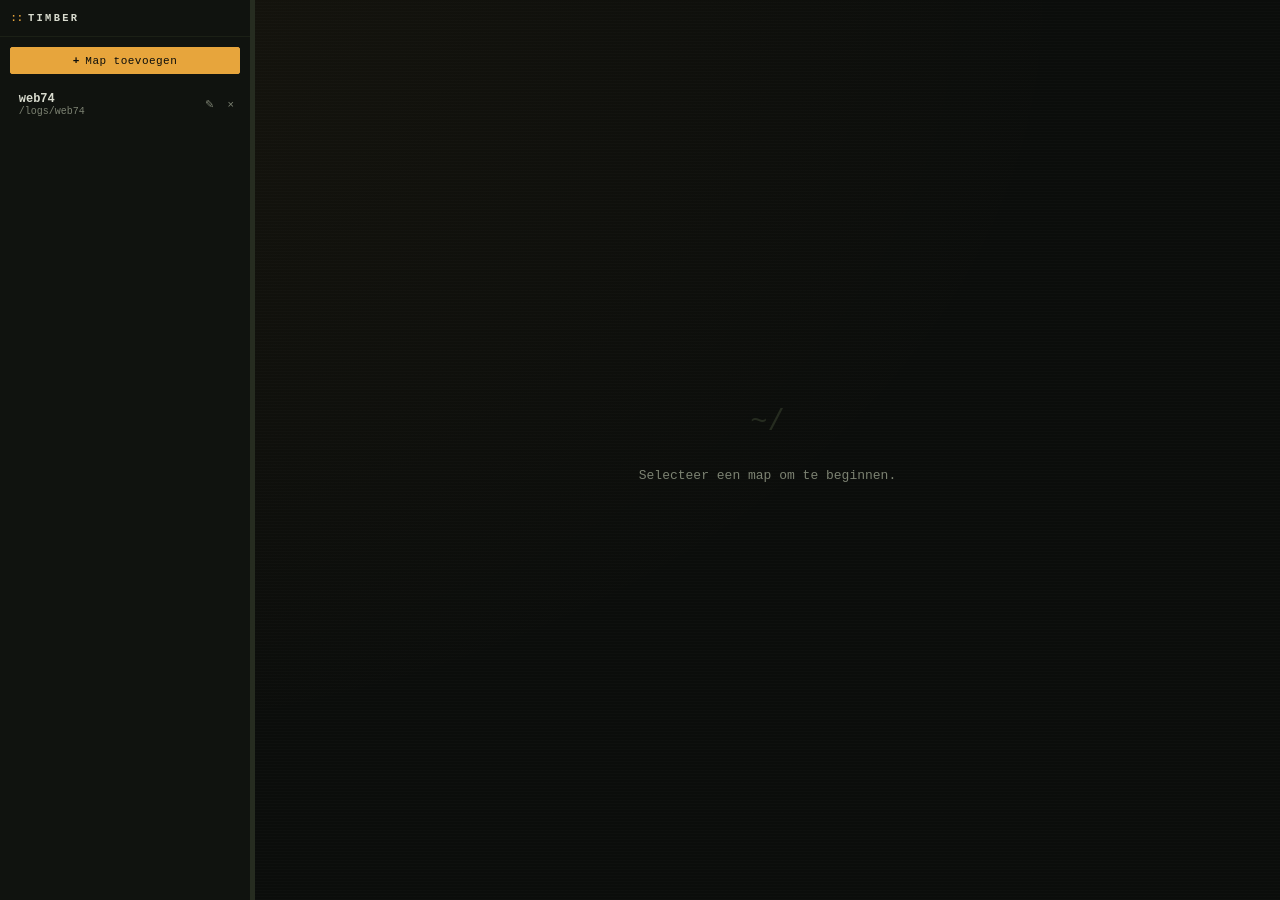
Test: App › notifies (native + in-app) for a background folder's new entry, not the open one
Click the text "/logs/web74" at (52, 111), box x1=19 y1=106 x2=85 y2=117
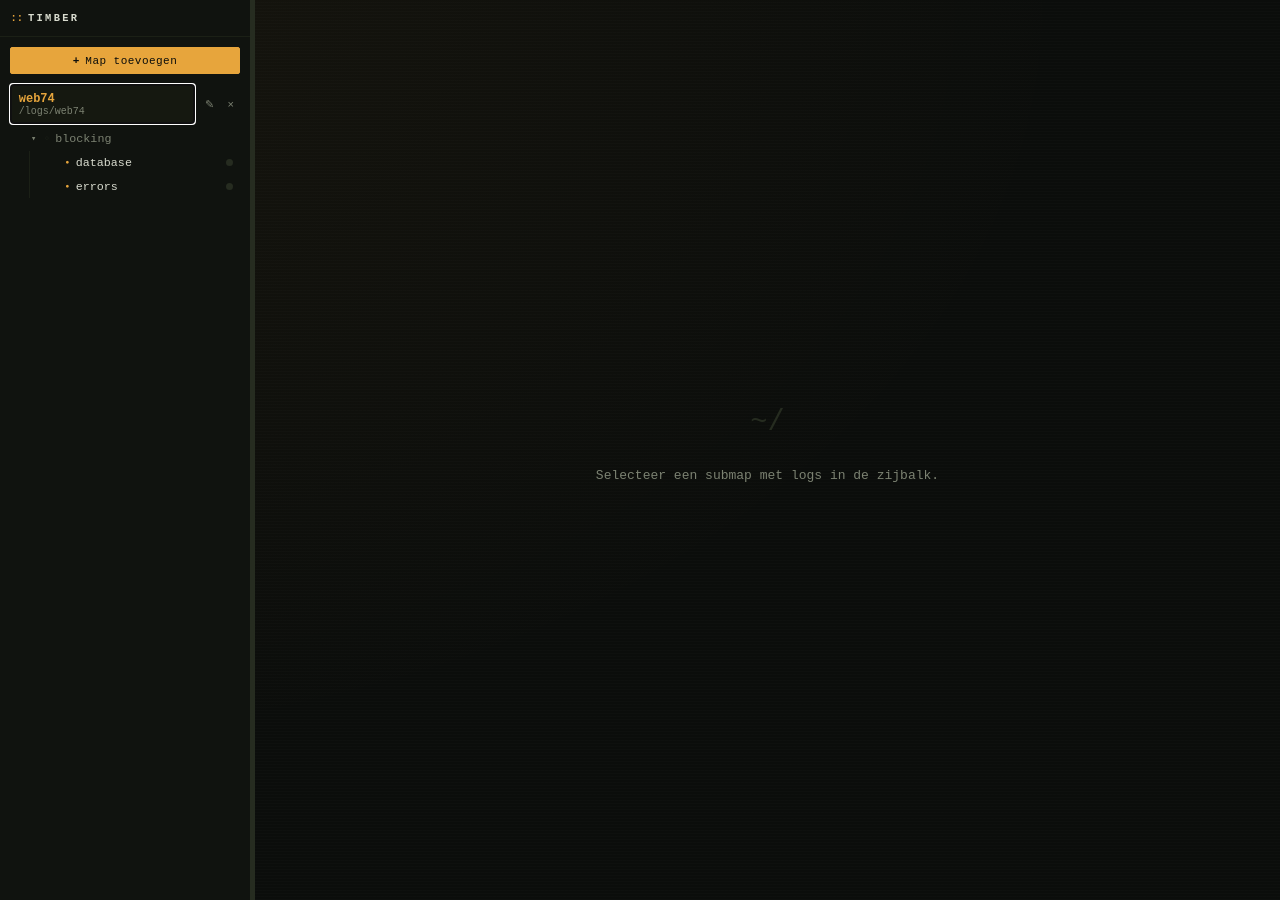
Click the text "database" at (104, 163), box x1=76 y1=156 x2=132 y2=170
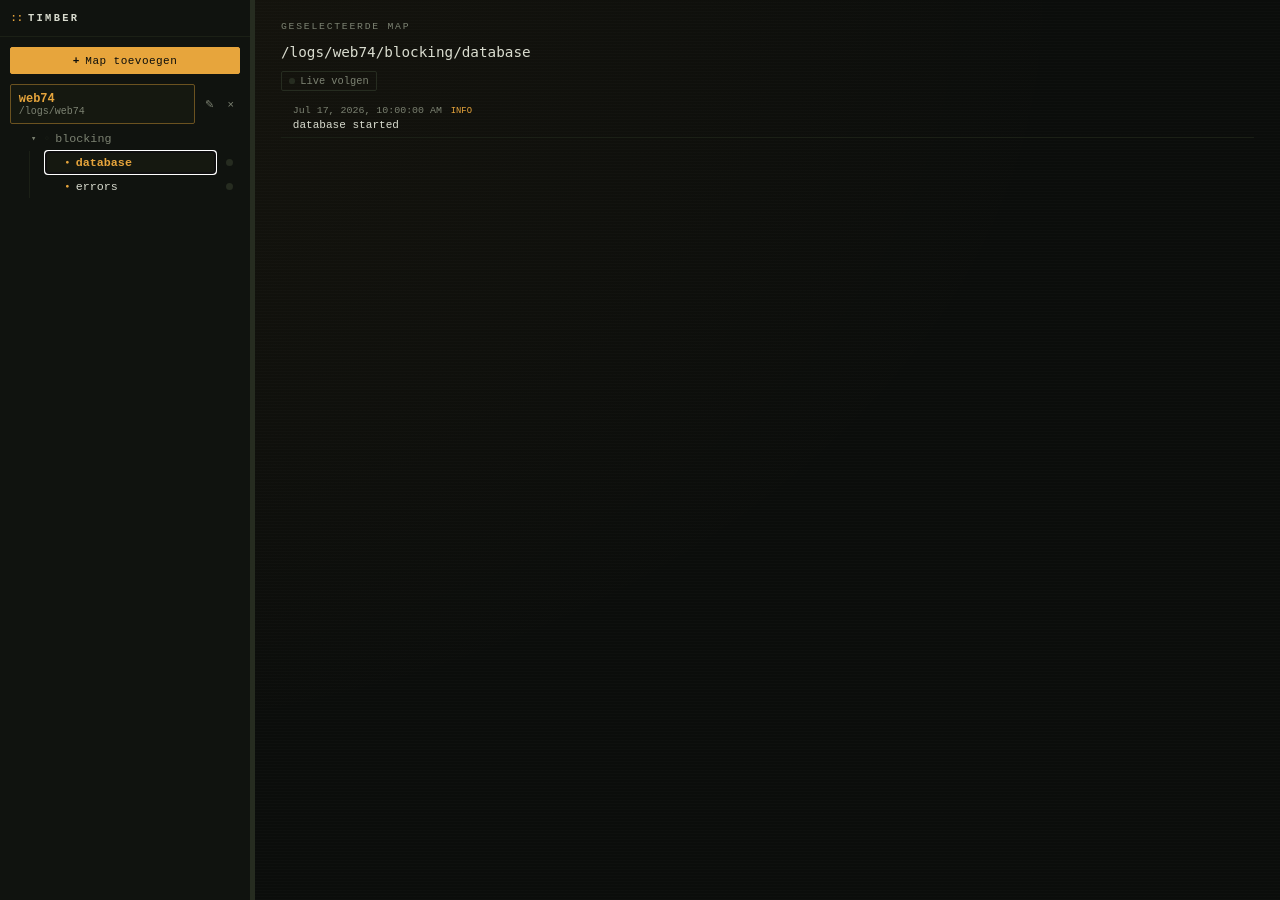
Click the button named "live volgen errors aanzetten" at (230, 187), box x1=219 y1=175 x2=240 y2=198
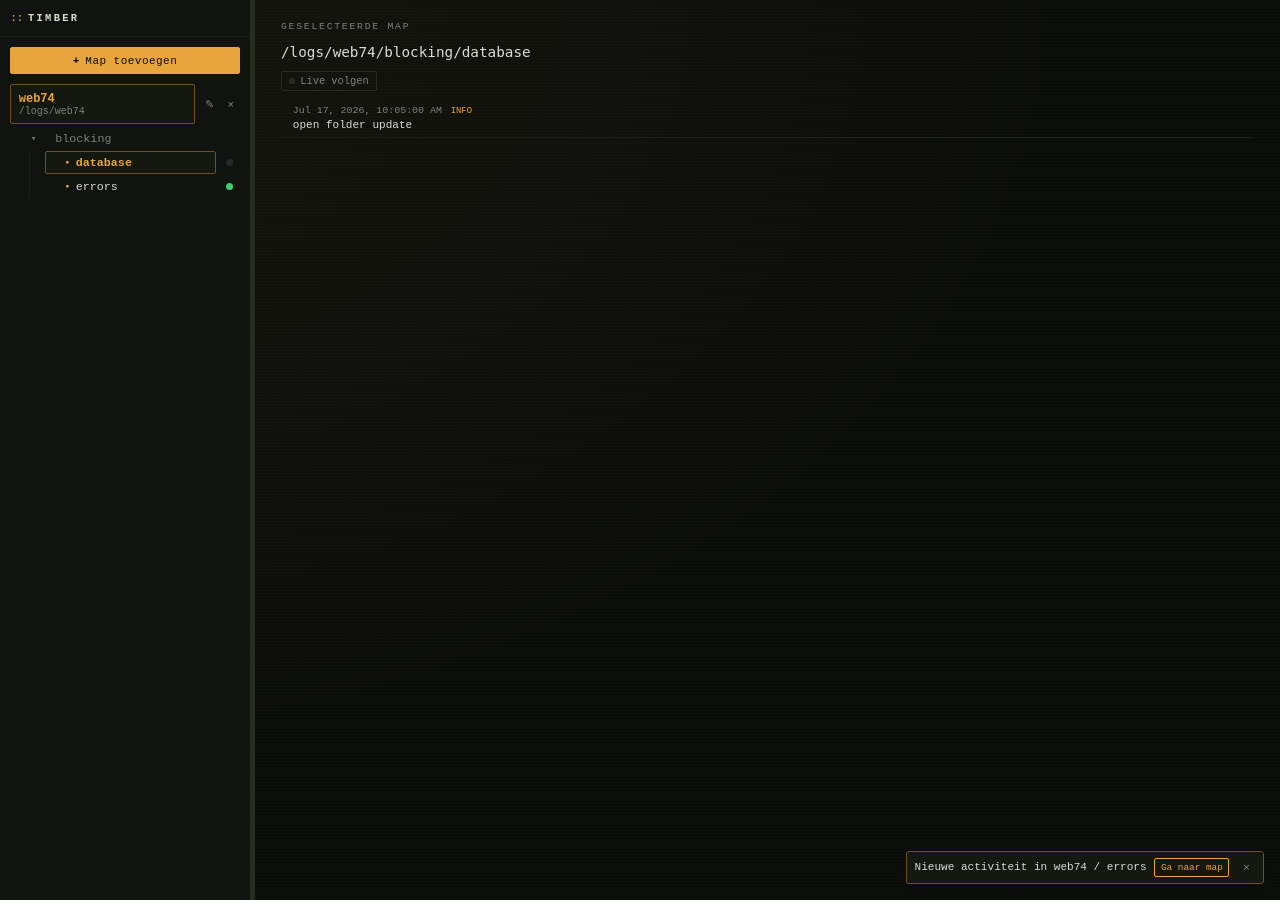
expect the text "Nieuwe activiteit in web74 / errors" is shown: met, box x1=915 y1=859 x2=1147 y2=876
